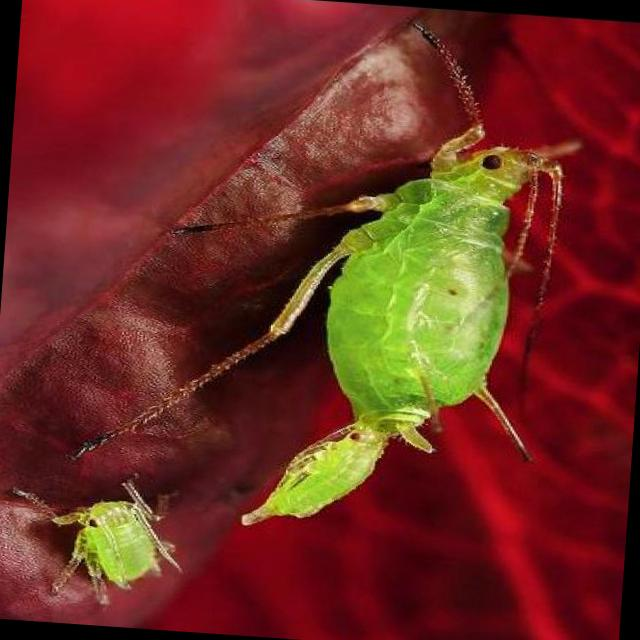aphid: (93, 18, 611, 476), (0, 420, 237, 615)
